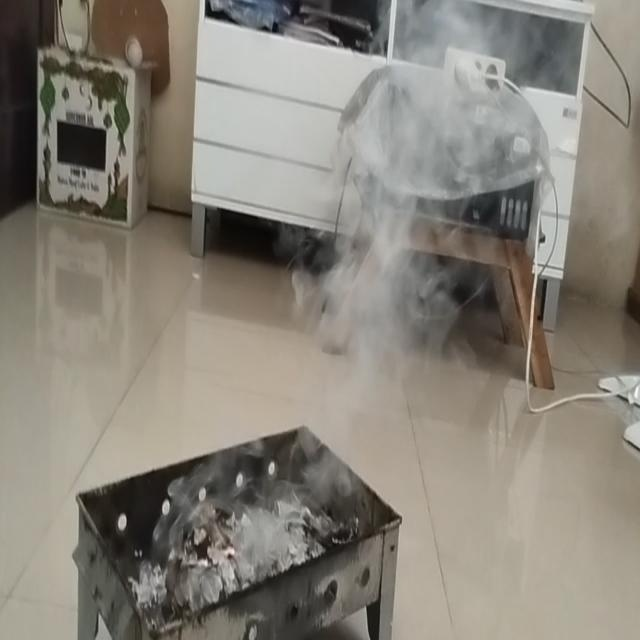smoke: (330, 17, 531, 297), (160, 374, 397, 591)
